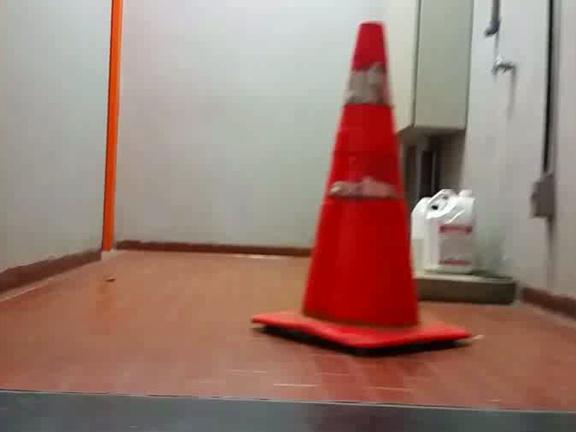0 cone: (251, 22, 470, 348)
